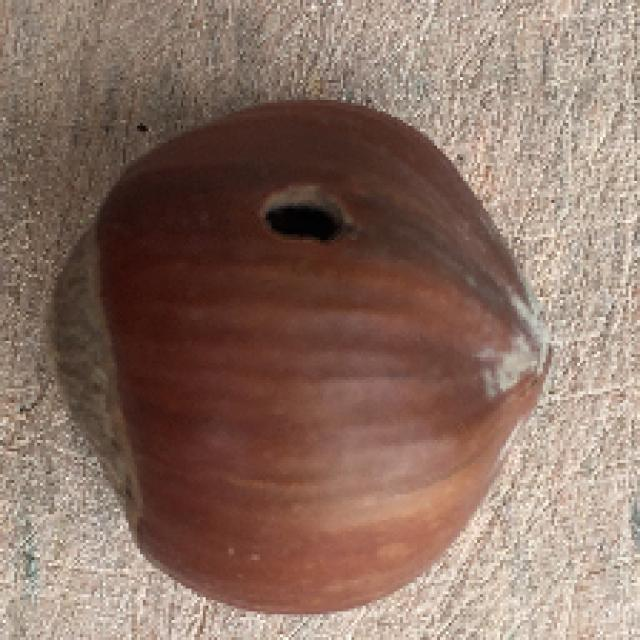damagedHazelnut: (62, 95, 554, 617)
